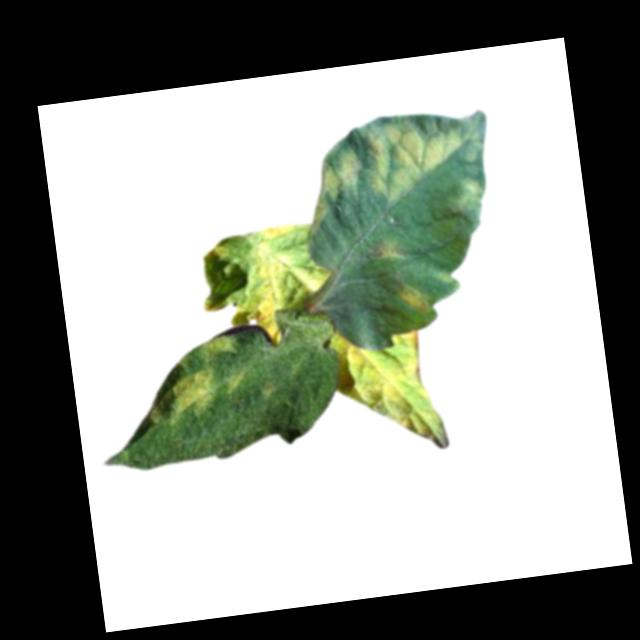Leaf_Mold: (316, 110, 487, 210), (325, 327, 448, 462), (233, 235, 339, 350), (144, 367, 220, 431), (445, 176, 485, 226), (193, 332, 240, 364), (365, 235, 406, 267), (394, 283, 429, 319), (257, 223, 295, 242)
